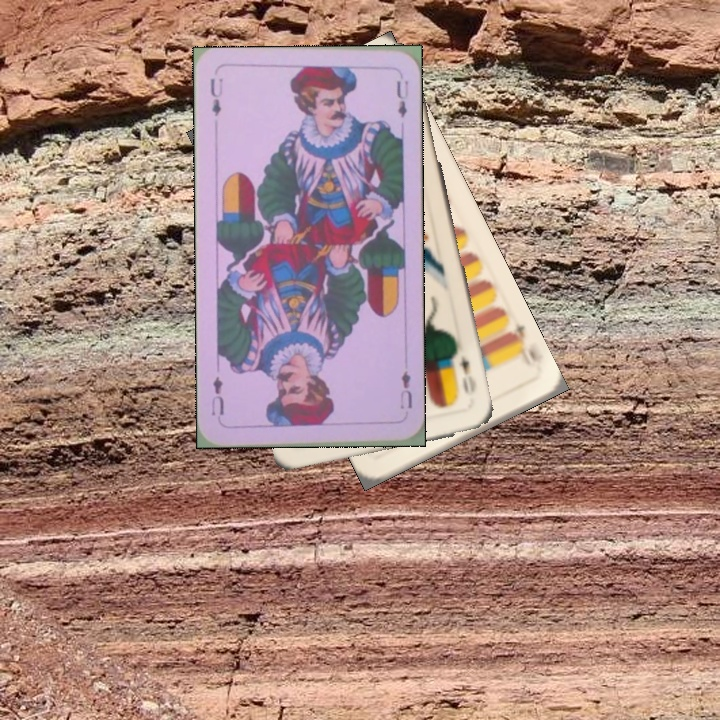E10: (502, 319, 545, 376)
EO: (455, 352, 475, 399)
EU: (206, 74, 225, 119), (396, 366, 414, 411)
